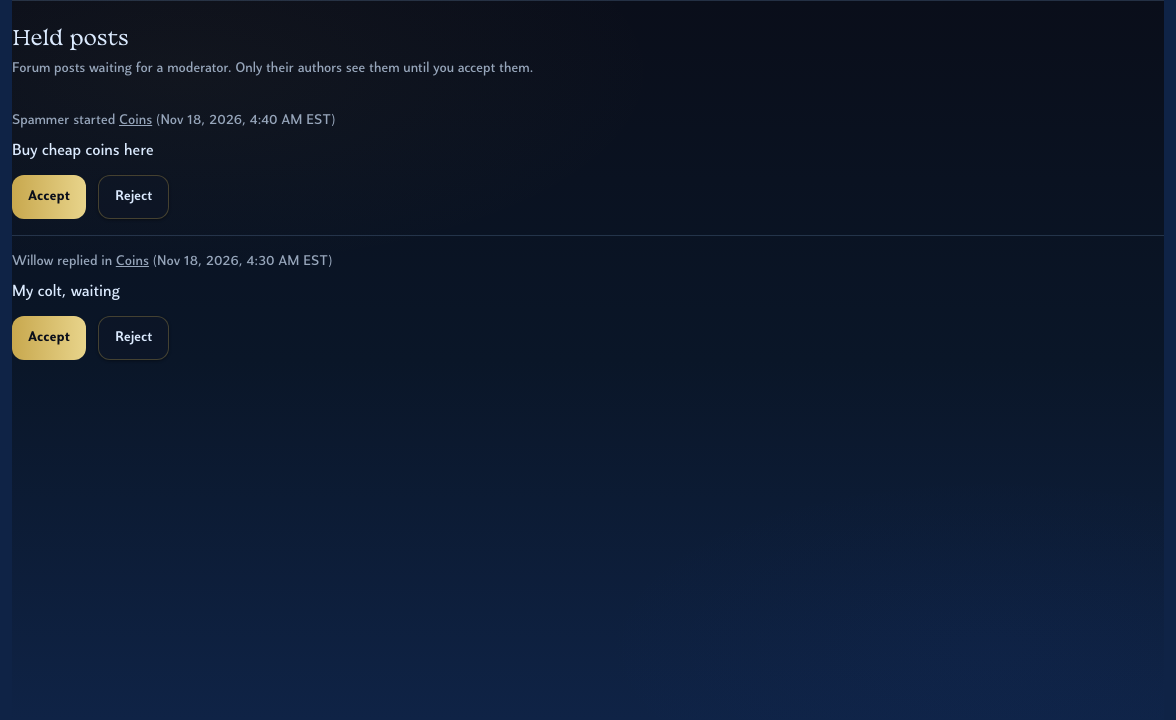
Scenario: StaffHeldPosts › words a held reply in a held thread as removing only the reply (Codex r2 #7)
Expected: the list item with test id "held-post-81" shows "Willow replied in Coins", [12,235,1164,376]
Click the button "Reject" below "Willow" at [134, 338], box [98,316,169,360]
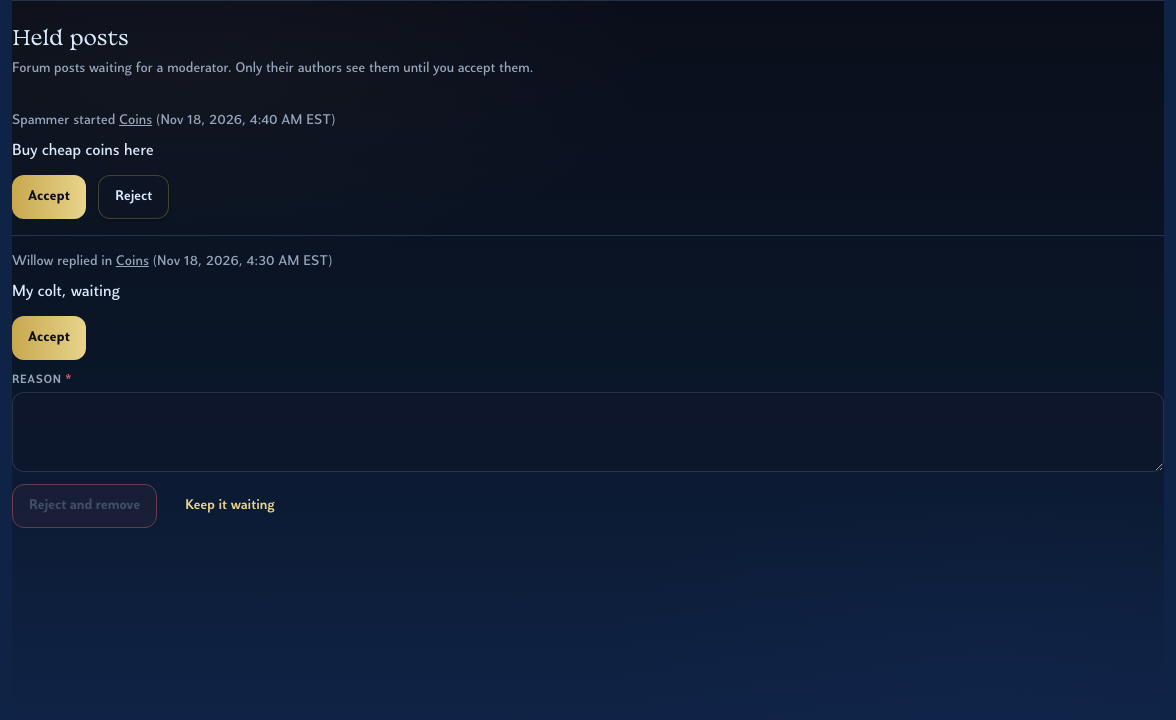
Now the button "Reject and remove" is shown, box [12,484,157,528]
